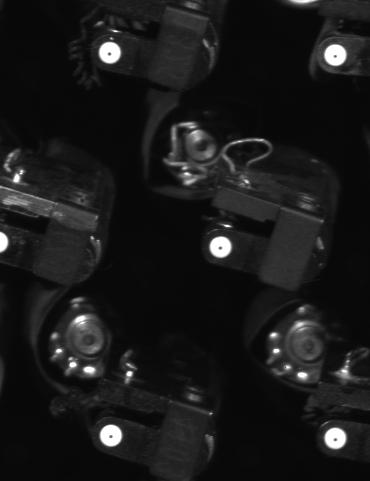fiber: (90, 36, 129, 70), (319, 423, 353, 453), (320, 40, 354, 68), (205, 231, 234, 261), (96, 422, 127, 450)
